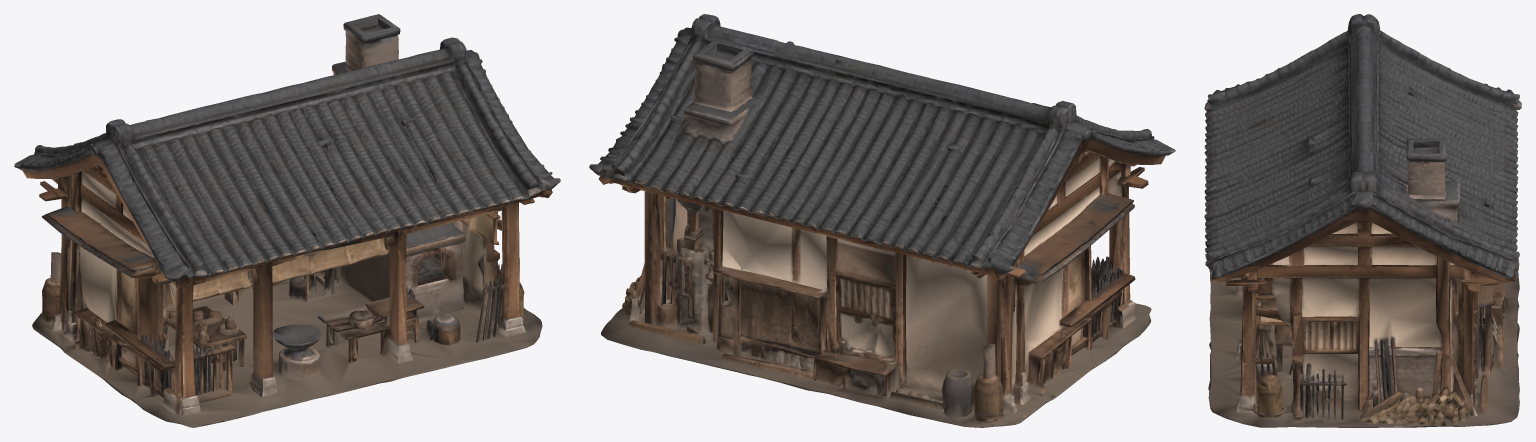
Rendered from 12_Blacksmith_Workshop_LOD1.fbx.
The picture shows the model from 3 angles, left to right: view 1: azimuth 30°, elevation 25°; view 2: azimuth 150°, elevation 25°; view 3: azimuth 270°, elevation 25°; orthographic projection. The views are drawn at different scales.
Parts seen in each view (by area): view 1: 12_Blacksmith_Workshop_L1; view 2: 12_Blacksmith_Workshop_L1; view 3: 12_Blacksmith_Workshop_L1.
Part boxes in pixels (left/top/right/bottom): 12_Blacksmith_Workshop_L1: left=14, top=14, right=560, bottom=427; 12_Blacksmith_Workshop_L1: left=589, top=14, right=1175, bottom=427; 12_Blacksmith_Workshop_L1: left=1204, top=14, right=1521, bottom=427.
Size of the model in its own units: 9.6 by 5.8 by 6.87.
